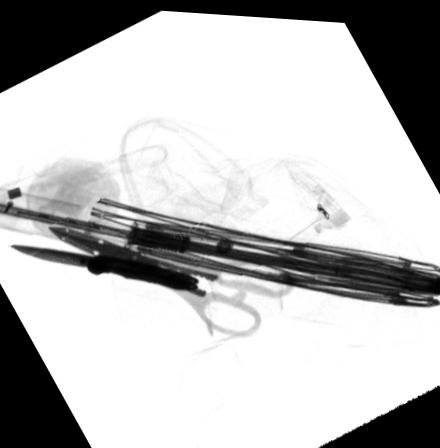Knife: (8, 245, 199, 286)
Scissors: (47, 225, 297, 331)
